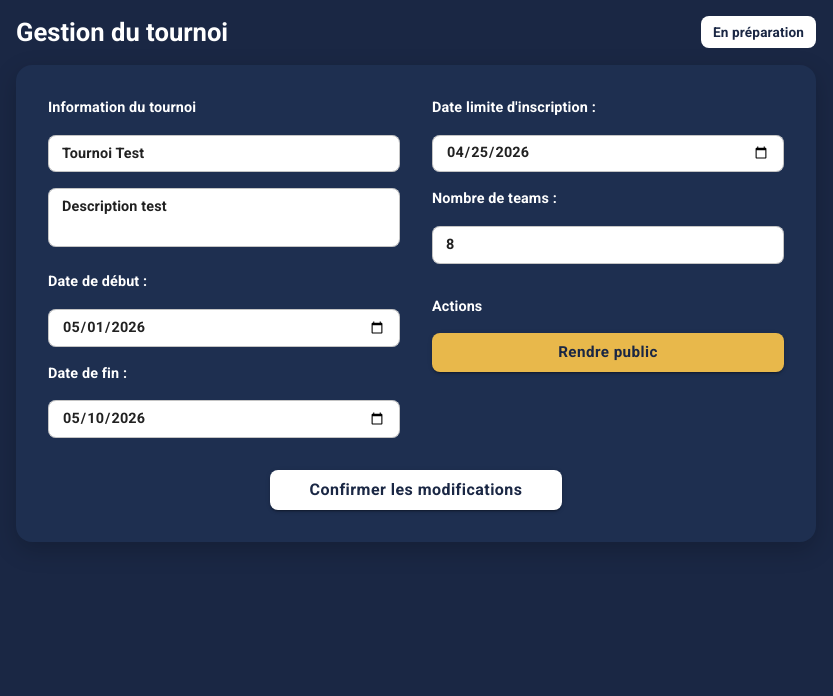
Scenario: TournamentAdminPage › appelle publishTournament et affiche le succès en cliquant sur Rendre public
Click the button "Rendre public" at (608, 353), box [432, 333, 784, 372]
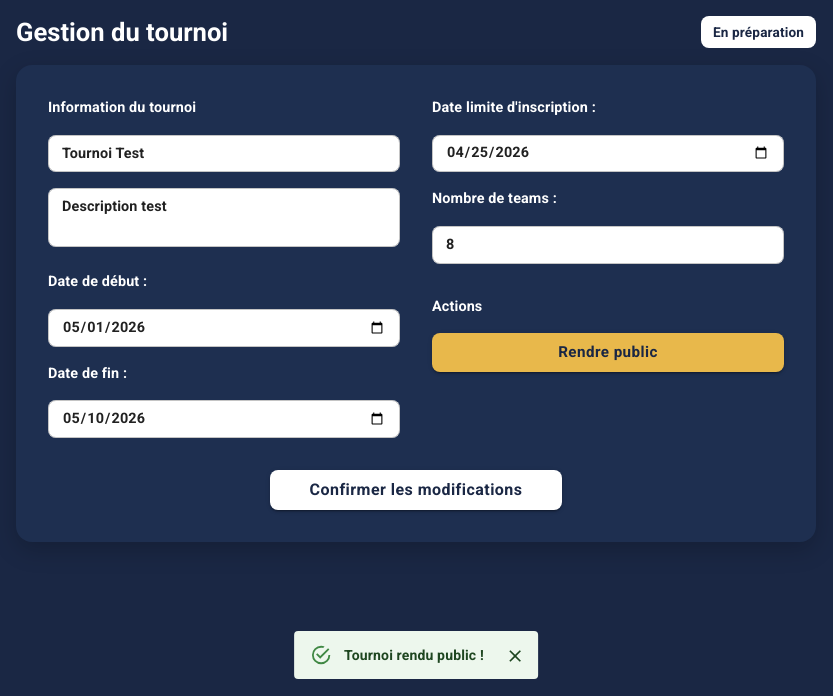
Check: the text "Tournoi rendu public !" is shown, box [344, 647, 484, 663]
